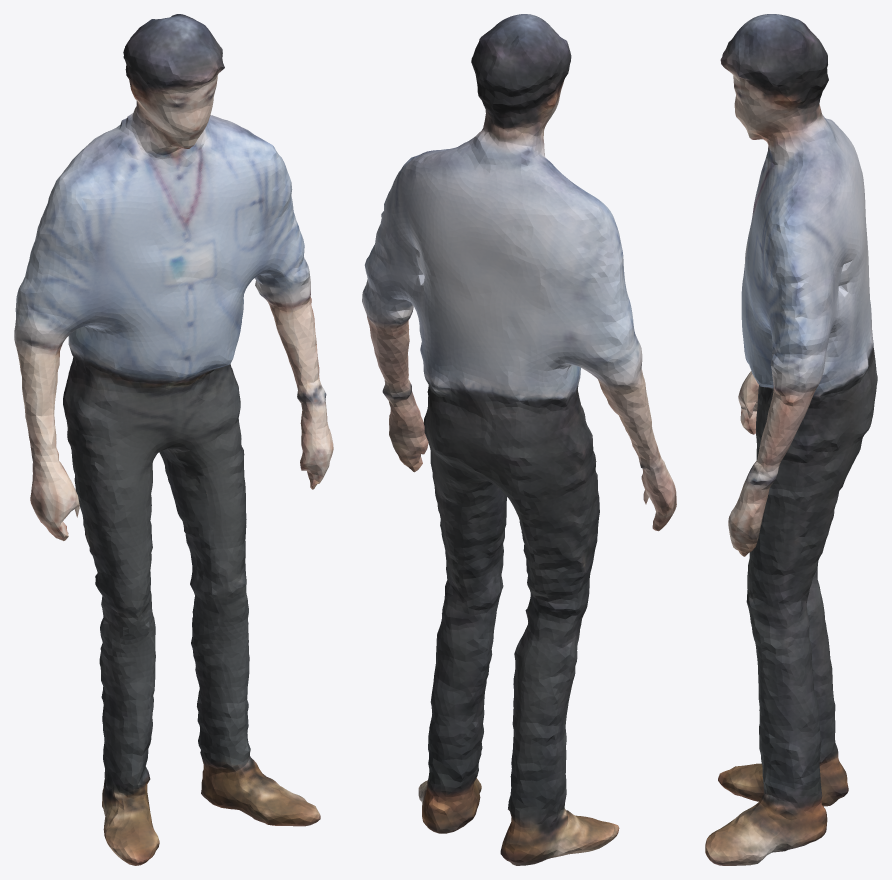
File: 008_gau.glb
3 renders of one model, left to right at view 1: azimuth 30°, elevation 25°; view 2: azimuth 150°, elevation 25°; view 3: azimuth 270°, elevation 25°, orthographic. The views are drawn at different scales.
Bounding box in the file's own units: 0.5391 × 1.45 × 0.2817.
1 material, 1 textured.
